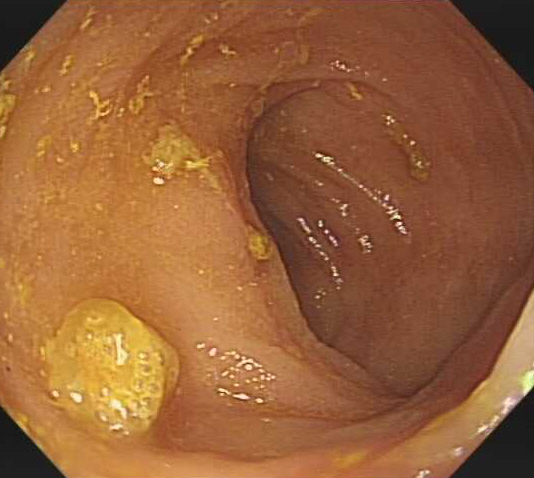others: (144, 173, 260, 295)
